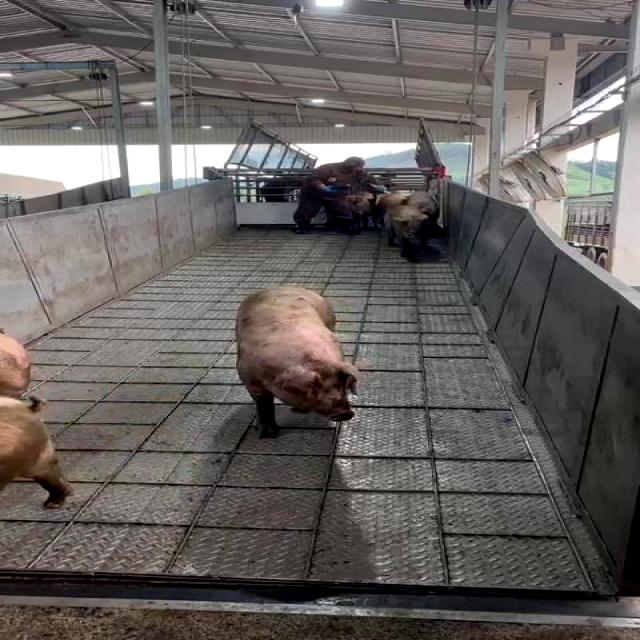pig: (237, 288, 362, 435), (1, 398, 71, 507), (1, 334, 31, 399)
